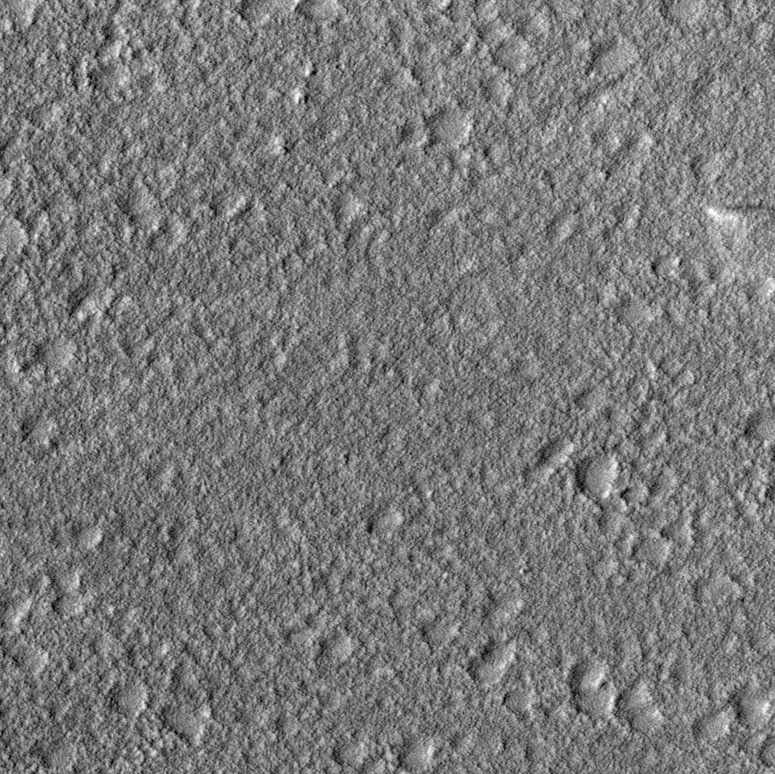dust_devil: (701, 203, 775, 225)
